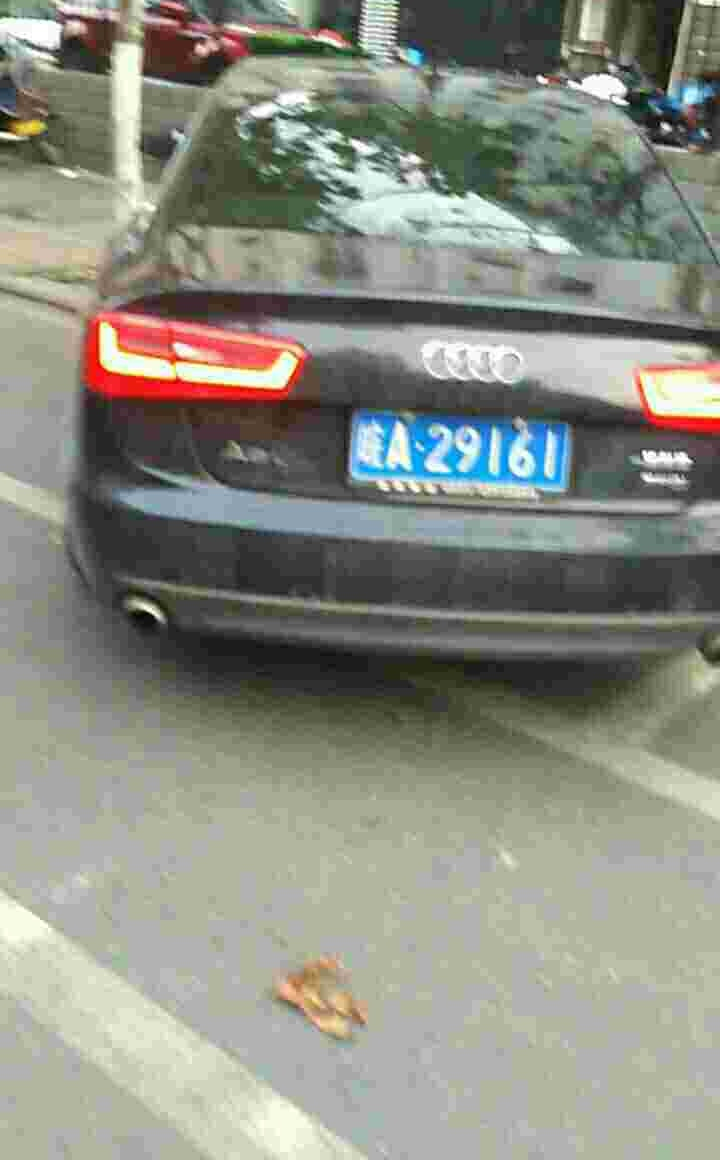license_plate: (360, 416, 576, 491)
